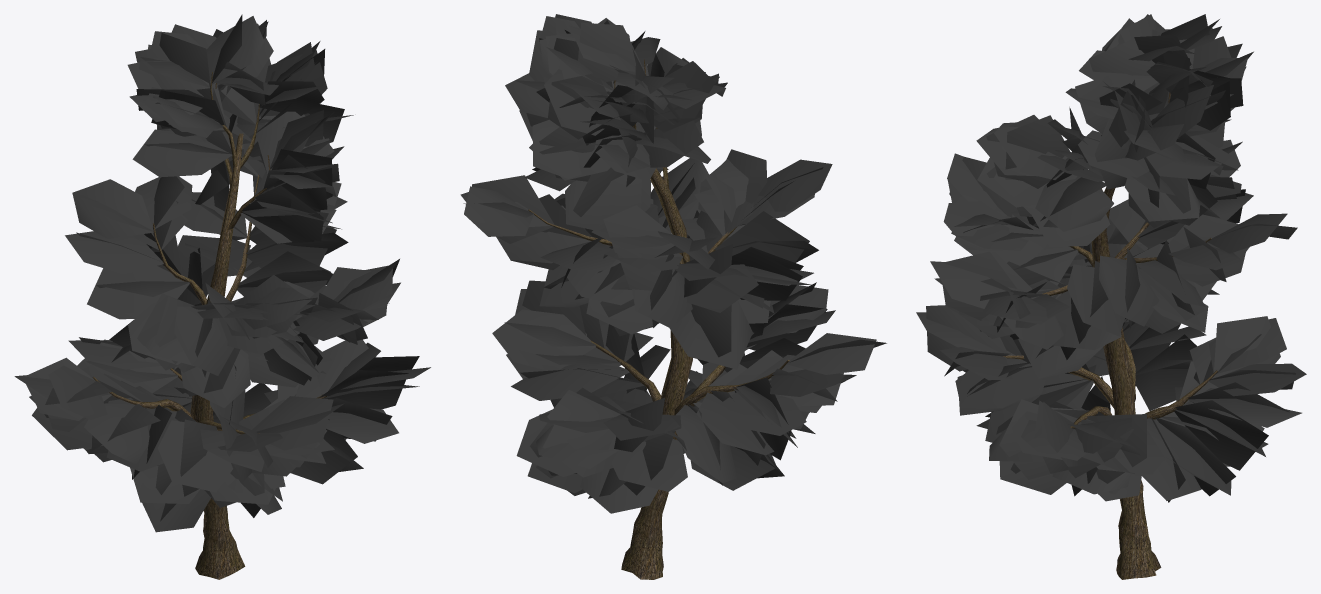
The model's file is SM_Tree03.FBX.
3 renders of one model, left to right at view 1: azimuth 30°, elevation 25°; view 2: azimuth 150°, elevation 25°; view 3: azimuth 270°, elevation 25°, orthographic. The views are drawn at different scales.
Parts seen in each view (by area): view 1: SM_Tree03; view 2: SM_Tree03; view 3: SM_Tree03.
Part boxes in pixels (x1,y1,x2,y2): SM_Tree03: [14, 14, 430, 579]; SM_Tree03: [460, 14, 886, 579]; SM_Tree03: [916, 14, 1306, 579].
Size of what is drawn, in the model's own units: 1198 by 1064 by 1686.
